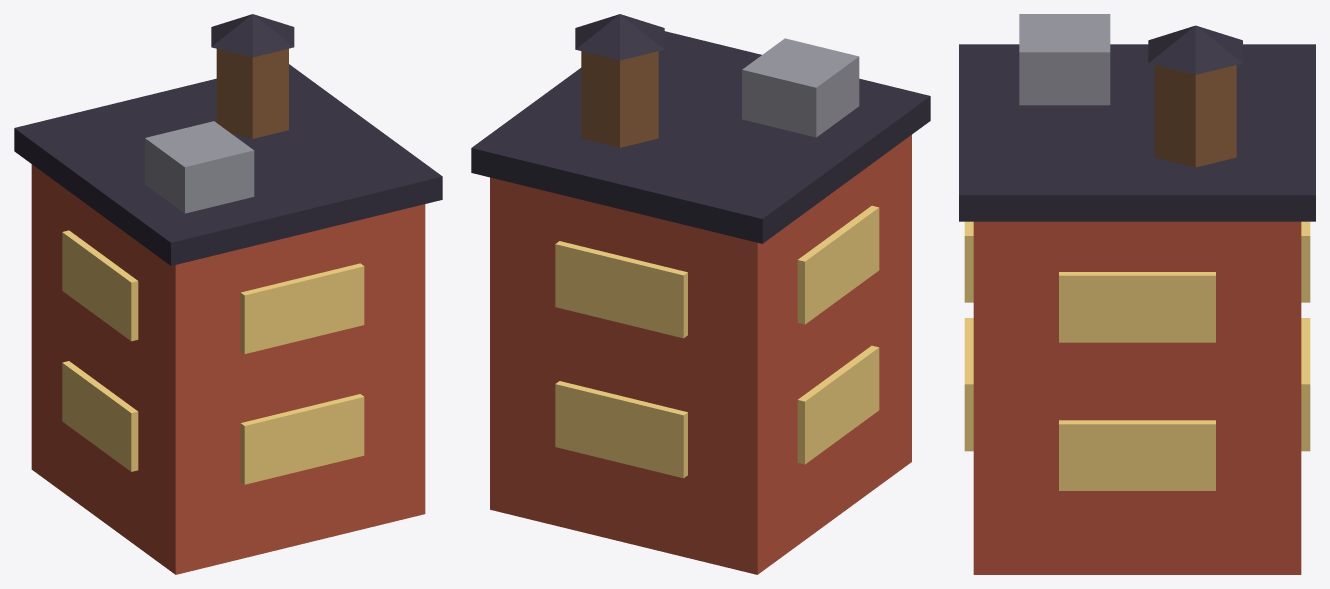
File: ciudad_edificio.obj
3 renders of one model, left to right at view 1: azimuth 30°, elevation 25°; view 2: azimuth 150°, elevation 25°; view 3: azimuth 270°, elevation 25°, orthographic. The views are drawn at different scales.
Parts seen in each view (by area): view 1: ciudad_edificio; view 2: ciudad_edificio; view 3: ciudad_edificio.
Boxes of the visible parts, box(x1,y1,x2,y2) form: ciudad_edificio: box(14, 14, 442, 574); ciudad_edificio: box(471, 14, 930, 574); ciudad_edificio: box(959, 14, 1315, 574).
Bounding box in the file's own units: 0.98 × 1.54 × 0.98.
